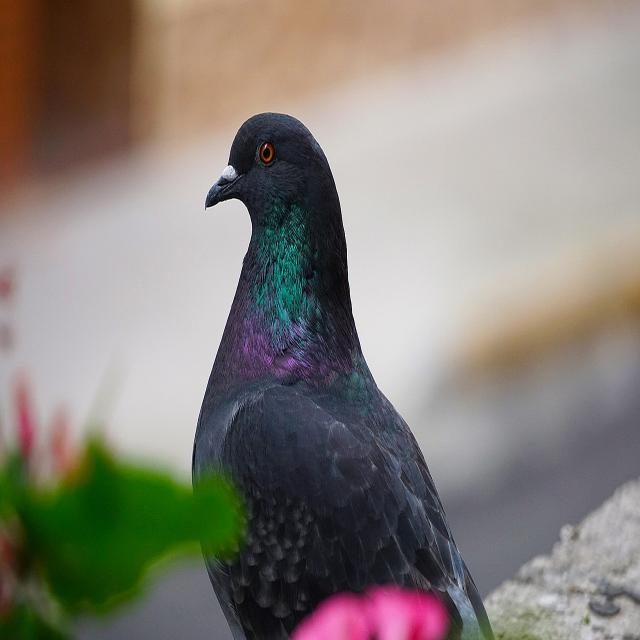pegion: (151, 67, 488, 628)
